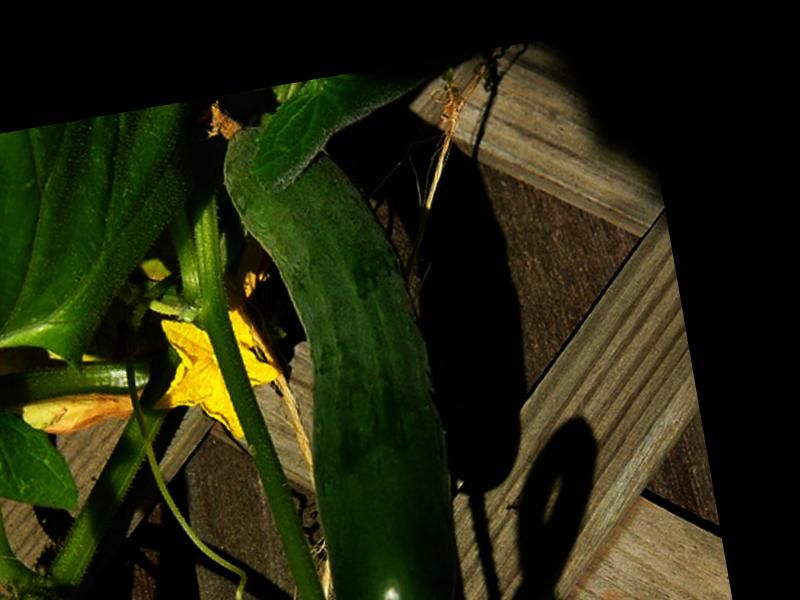Cucumber: (210, 73, 480, 600)
